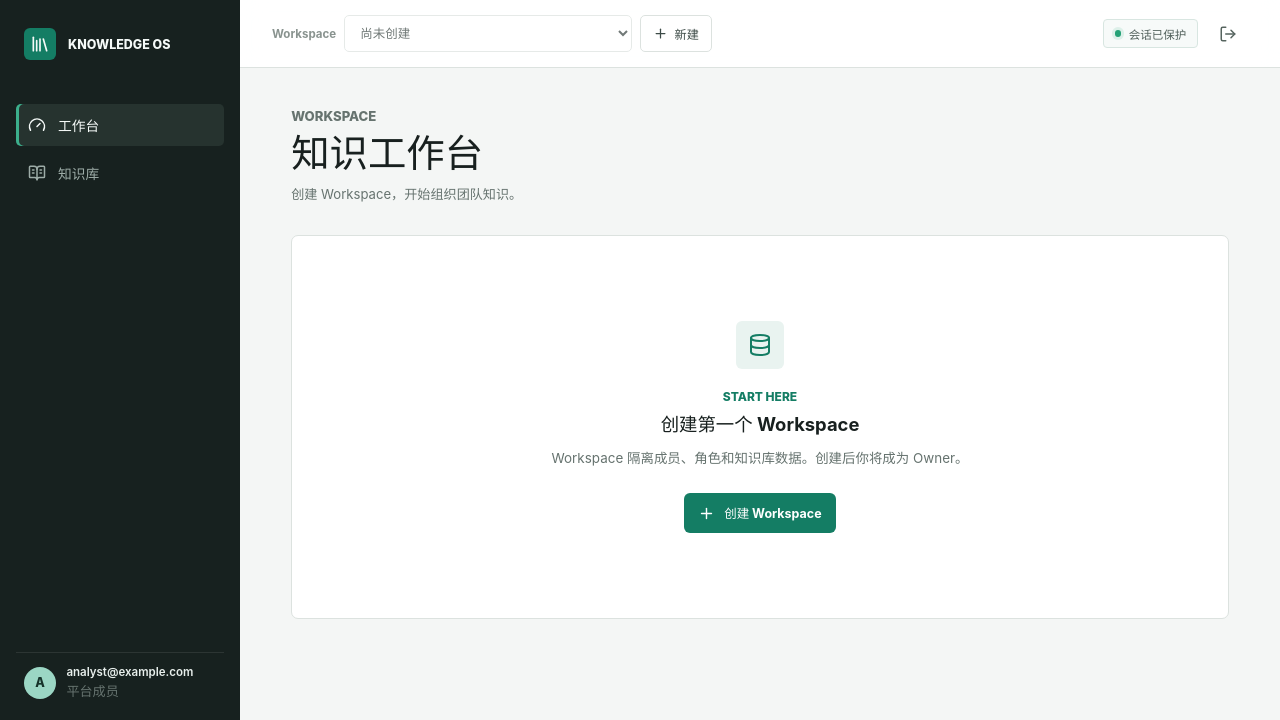
authentication workspace › creates the first workspace with the in-memory bearer token
The width and height of the screenshot is (1280, 720).
Click the button "创建 Workspace": (760, 513) [684,493,836,533]
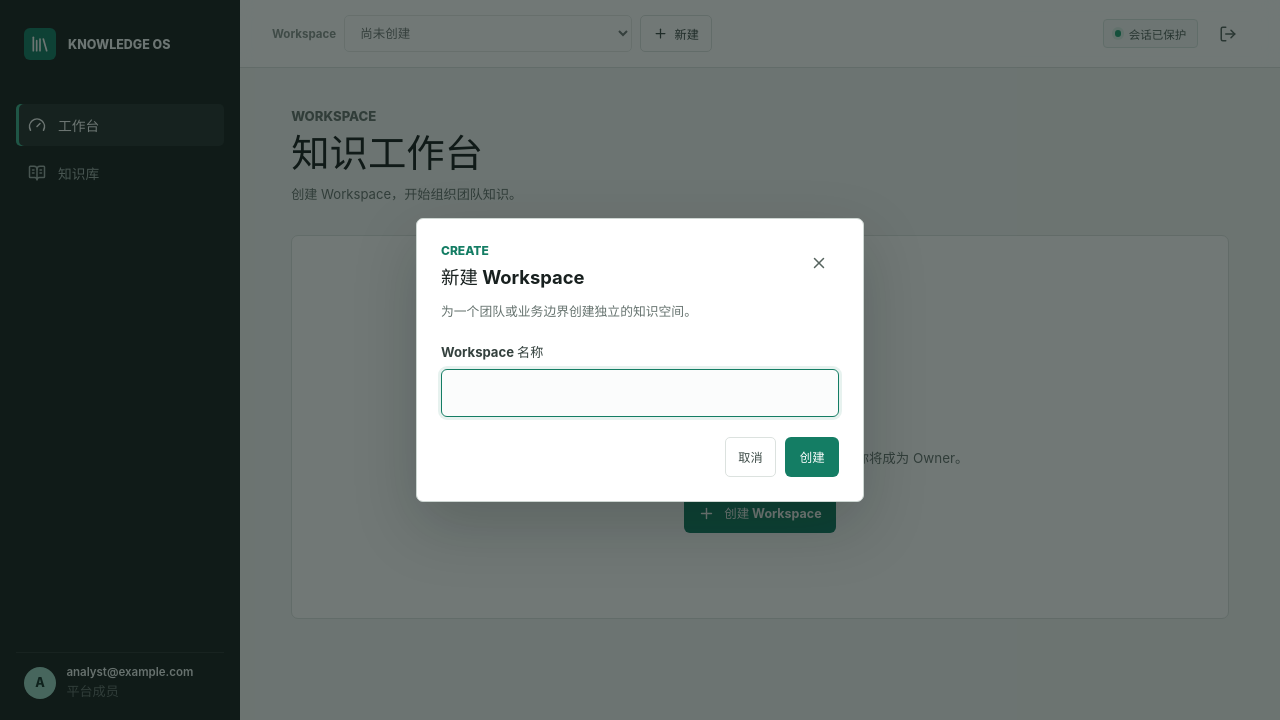
In the field labelled "Workspace 名称": (640, 393) [441,369,839,417], type "平台工程"
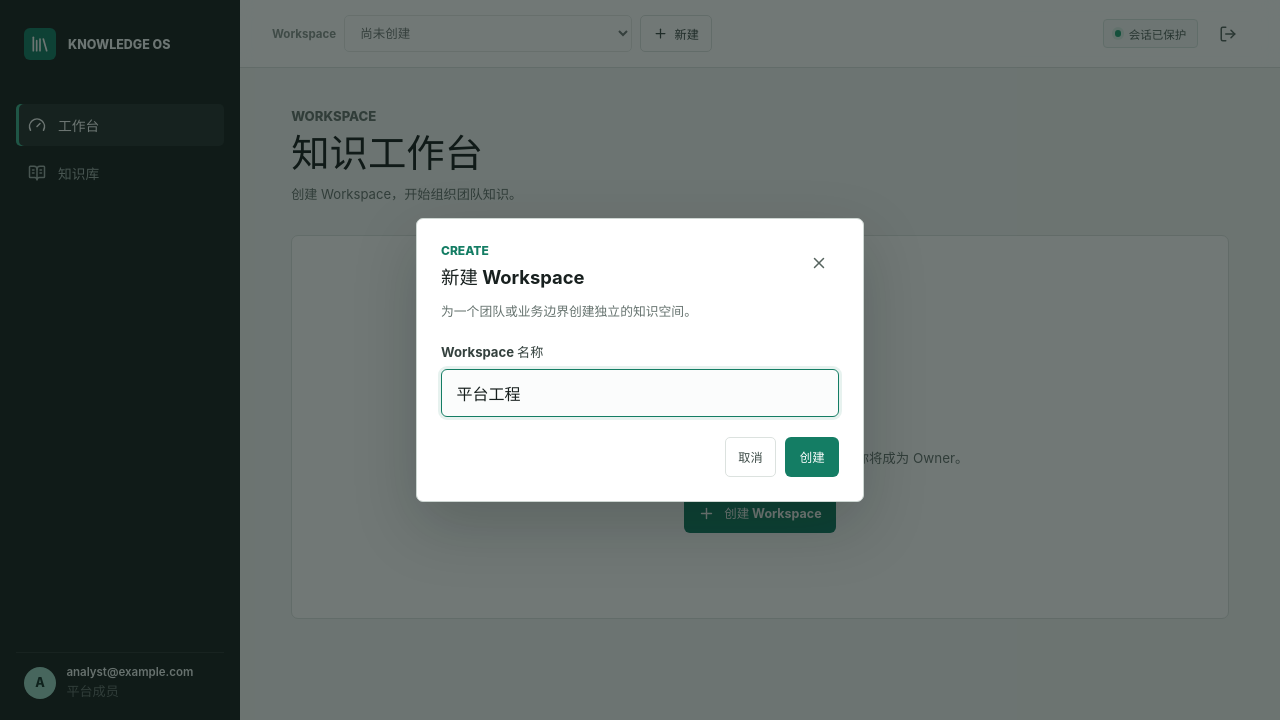
Click the button "创建": (812, 457) [785,437,839,477]
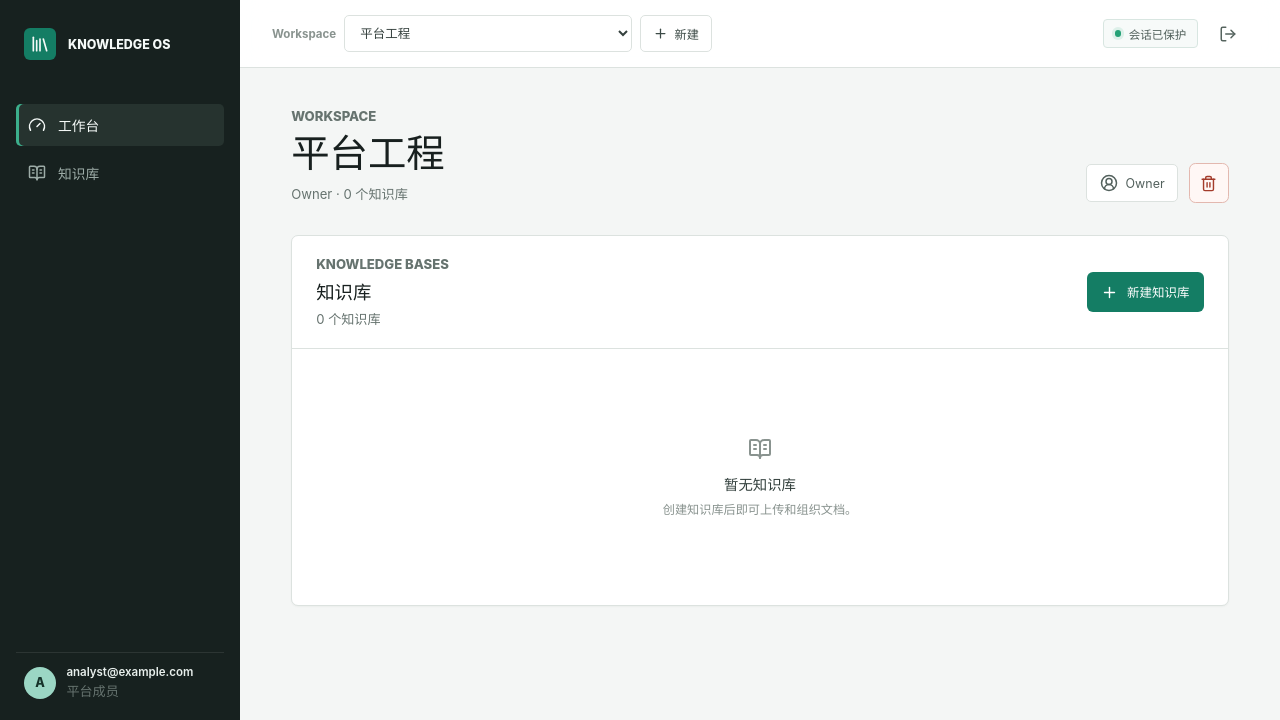
Expected: the heading "平台工程" is shown, [291,131,445,175]
